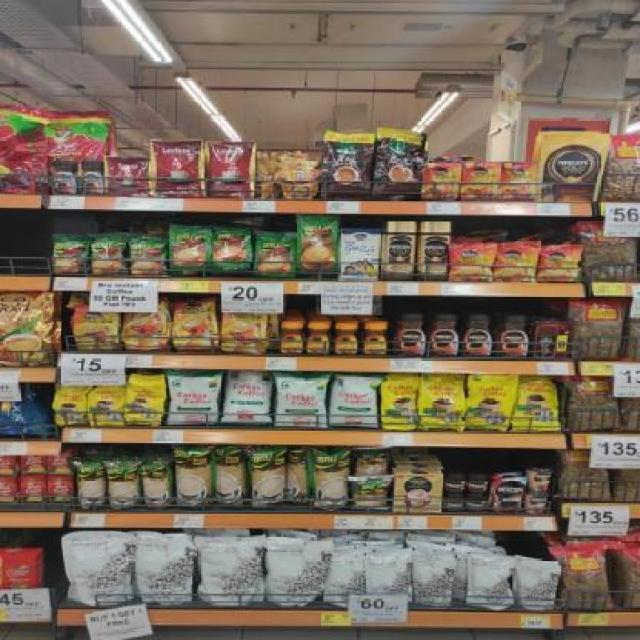Coffee: (221, 298, 267, 354), (124, 298, 170, 351), (174, 298, 218, 352), (73, 305, 119, 351), (385, 221, 416, 280), (421, 222, 450, 282), (451, 244, 492, 282), (497, 313, 530, 358), (497, 244, 536, 282), (542, 244, 580, 283), (393, 313, 426, 356), (430, 313, 459, 356), (463, 314, 492, 357), (493, 477, 524, 512), (53, 159, 79, 195), (79, 159, 104, 195), (278, 322, 304, 354), (334, 323, 358, 356), (364, 322, 388, 354), (308, 323, 330, 354), (445, 473, 466, 492), (467, 494, 488, 512), (470, 473, 488, 492), (446, 494, 464, 512)
